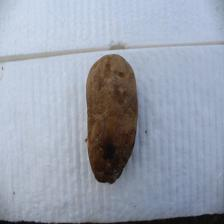Diseased-fungal potato: (80, 54, 140, 184)
